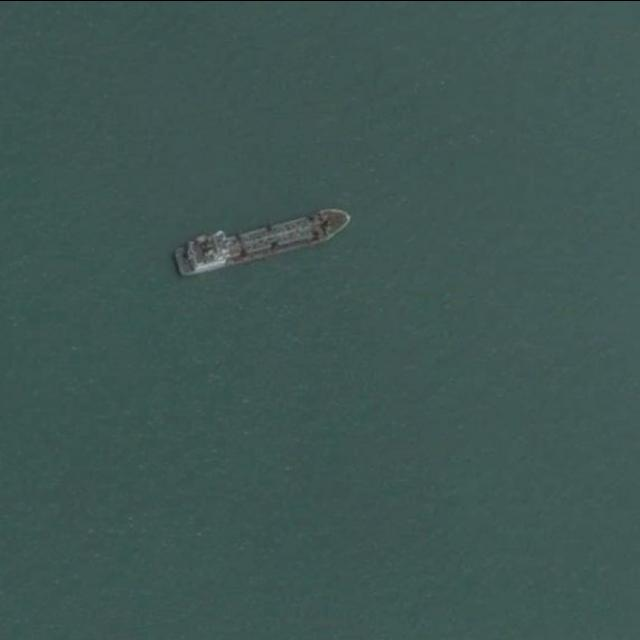ship: (171, 205, 350, 277)
